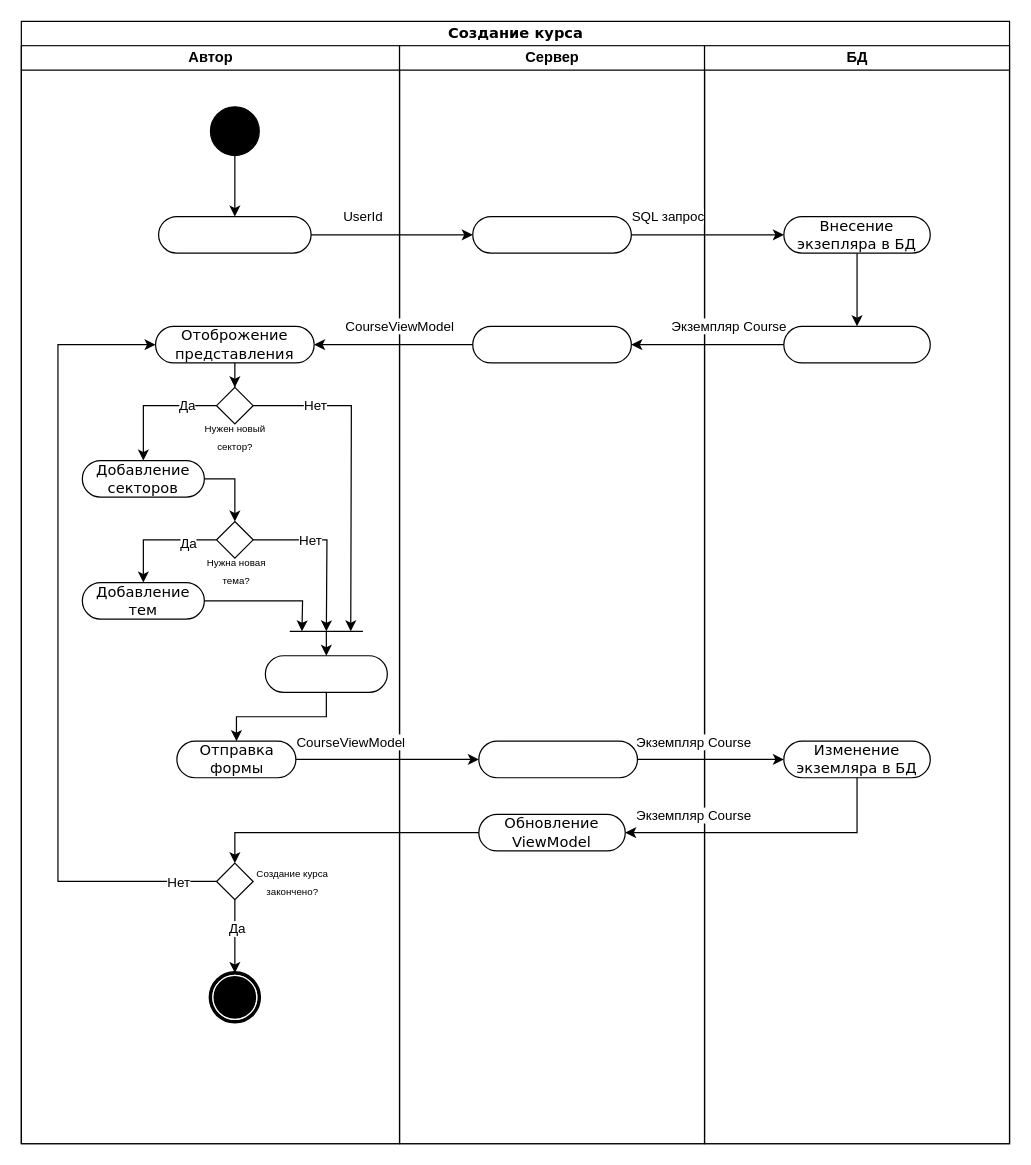
Image size: 1031x1165. Some labels were removed from this diagram. The centre of each missing label's shape, as x and y in pixels:
"Заполнение ViewModel" goes at (551,344).
"Заполнение данных формы" goes at (325,673).
"Запрос создания курса" goes at (234,234).
"Нормализация данных" goes at (557,759).
"Передача данных экземпляра" goes at (856,344).
"Создание экземпляра курса" goes at (551,234).
